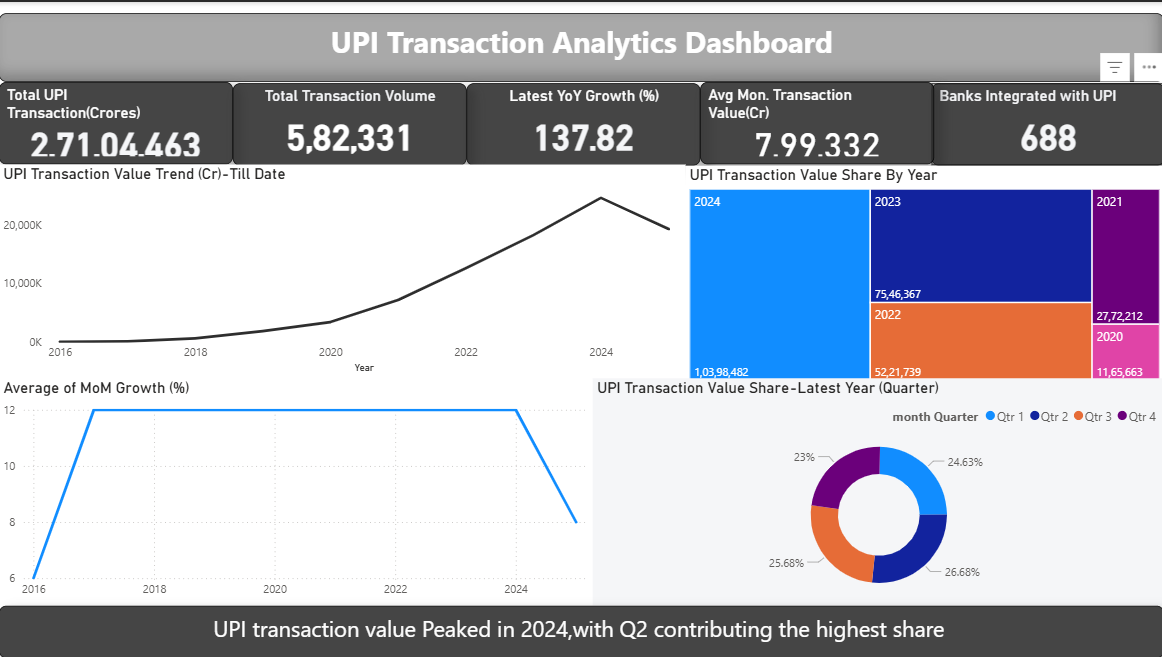

The page's visual inventory and layout, read from the dashboard file:
{"tool":"powerbi","page":{"name":"Dashboard","canvas":[1280,720],"ordinal":0},"visuals":[{"type":"textbox","box":[0,12.3,1280.3,75.5],"z":0},{"type":"card","title":"Total UPI Transaction(Crores)","fields":{"Values":["Sum(yearly_growth.total_amount_cr)"]},"box":[0,87.8,256.6,90.6],"z":1000},{"type":"card","title":"Latest YoY Growth (%)","fields":{"Values":["Min(yearly_growth.yoy_growth_pct)"]},"box":[513.2,89.2,256.6,90.6],"z":2000},{"type":"card","title":"Total Transaction Volume","fields":{"Values":["Sum(upi_monthly_stats.transaction_volume_mn)"]},"box":[256.6,89.2,256.6,90.6],"z":3000},{"type":"card","title":"Banks Integrated with UPI","fields":{"Values":["Max(upi_monthly_stats.banks_count)"]},"box":[1023.7,89.2,256.6,90.6],"z":4000},{"type":"card","title":"Avg Mon. Transaction Value(Cr)","fields":{"Values":["Avg(upi_mom_growth.txn_val_cr)"]},"box":[769.8,87.8,256.6,90.6],"z":5000},{"type":"lineChart","title":"Average of MoM Growth (%)","fields":{"Category":["upi_mom_growth.month.Variation.Date Hierarchy.Year","upi_mom_growth.month.Variation.Date Hierarchy.Quarter","upi_mom_growth.month.Variation.Date Hierarchy.Month","upi_mom_growth.month.Variation.Date Hierarchy.Day"],"Y":["CountNonNull(upi_mom_growth.mom_growth_percent)"]},"box":[0,413,651.8,249.7],"z":6000},{"type":"treemap","title":"UPI  Transaction Value Share By Year","fields":{"Values":["Sum(yearly_growth.total_amount_cr)"],"Group":["yearly_growth.year"]},"box":[753.3,179.8,526.9,241.5],"z":7000},{"type":"lineChart","title":"UPI Transaction Value Trend (Cr)-Till Date","fields":{"Category":["upi_monthly_stats.month.Variation.Date Hierarchy.Year","upi_monthly_stats.month.Variation.Date Hierarchy.Quarter","upi_monthly_stats.month.Variation.Date Hierarchy.Month","upi_monthly_stats.month.Variation.Date Hierarchy.Day"],"Y":["Sum(upi_monthly_stats.transaction_value_cr)"]},"box":[0,178.4,753.3,234.6],"z":8000},{"type":"donutChart","title":"UPI Transaction Value Share-Latest Year (Quarter)","fields":{"Y":["Sum(upi_monthly_stats.transaction_value_cr)"],"Category":["upi_monthly_stats.month.Variation.Date Hierarchy.Quarter","upi_monthly_stats.month.Variation.Date Hierarchy.Month","upi_monthly_stats.month.Variation.Date Hierarchy.Day"]},"box":[651.8,413,628.5,249.7],"z":9000},{"type":"textbox","box":[0,662.8,1280.3,57.6],"z":10000}]}

Visuals, with their boxes in screenshot pixels (x1, y1, x2, y2), scaled from the page's 1280x720 canvas onto the 1162x657 screenshot:
textbox: 0, 11, 1161, 80
"Total UPI Transaction(Crores)" card: 0, 80, 233, 163
"Latest YoY Growth (%)" card: 466, 81, 699, 164
"Total Transaction Volume" card: 233, 81, 466, 164
"Banks Integrated with UPI" card: 929, 81, 1161, 164
"Avg Mon. Transaction Value(Cr)" card: 699, 80, 932, 163
"Average of MoM Growth (%)" lineChart: 0, 377, 592, 605
"UPI  Transaction Value Share By Year" treemap: 684, 164, 1161, 384
"UPI Transaction Value Trend (Cr)-Till Date" lineChart: 0, 163, 684, 377
"UPI Transaction Value Share-Latest Year (Quarter)" donutChart: 592, 377, 1161, 605
textbox: 0, 605, 1161, 656
